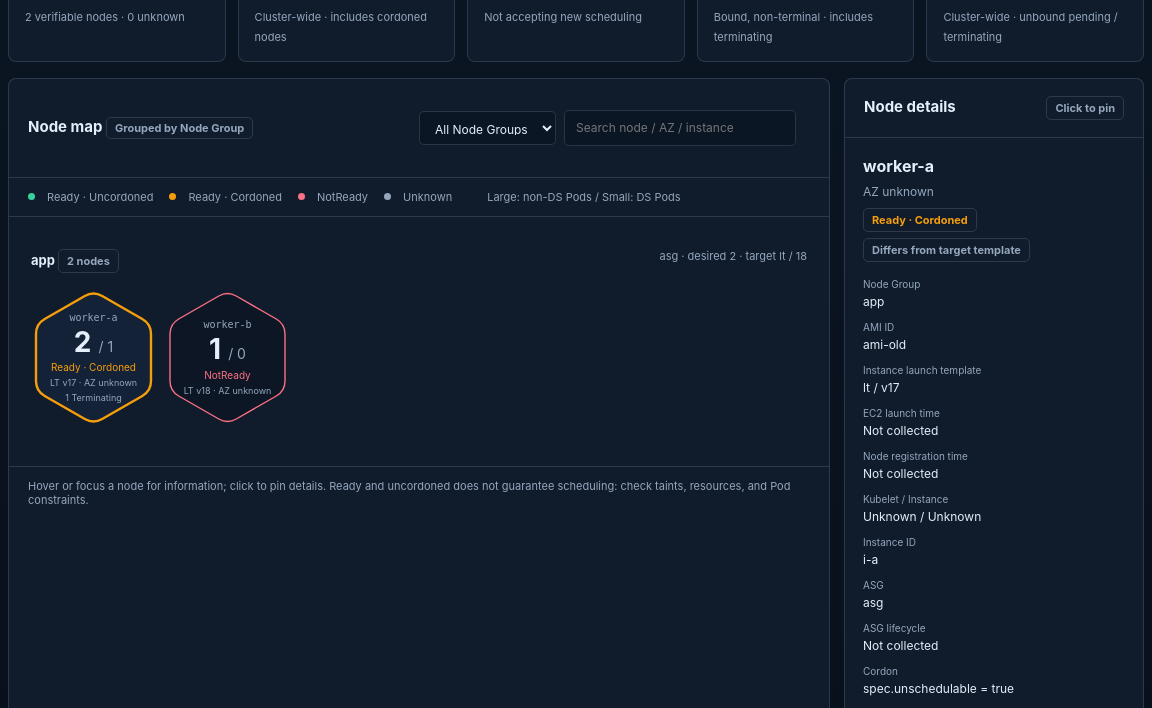
it: supports search, keyboard details, empty results and honest activity coverage
(page scrolled)
Focus the button with aria-label "worker-a, 2 non-DS Pods, 1 DS Pods, Ready · Cordoned, Cordon". click: (94, 358)
box: [31,288,156,428]
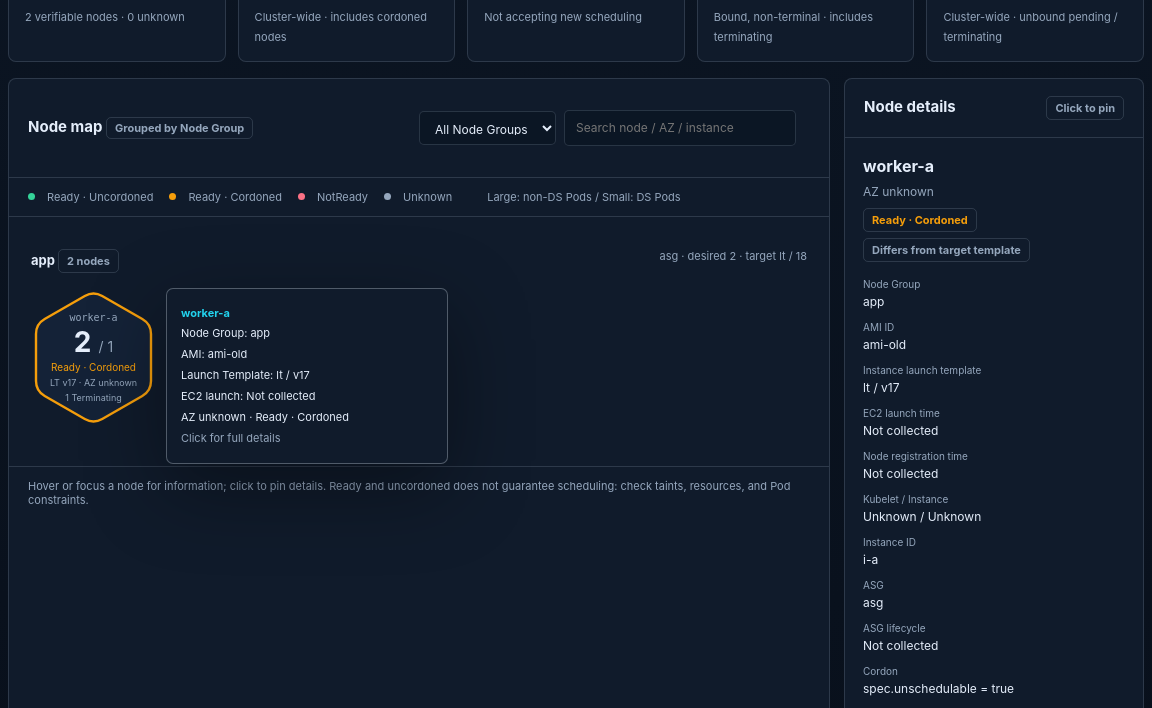
Result: the tooltip shows "ami-old" at [181,347,247,361]
Press Escape in the button with aria-label "worker-a, 2 non-DS Pods, 1 DS Pods, Ready · Cordoned, Cordon", box [31,288,156,428]
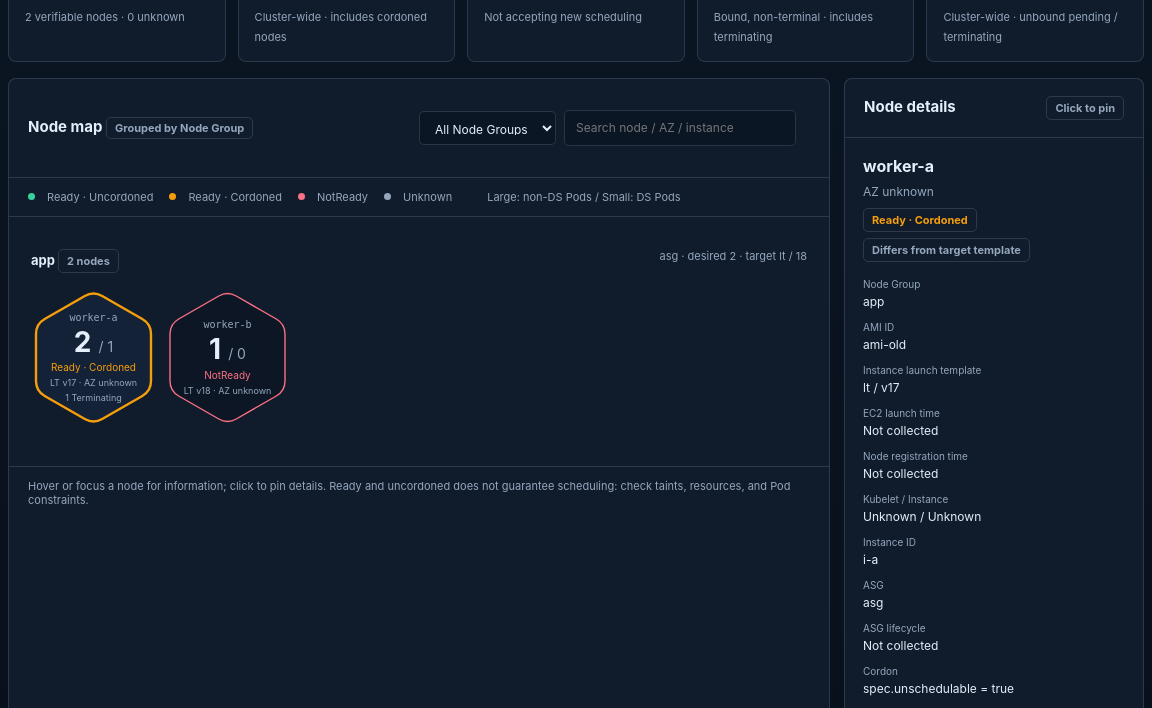
Type "not-present" into the field with placeholder "Search node / AZ / instance". click: (680, 128)
box: [564,110,796,146]
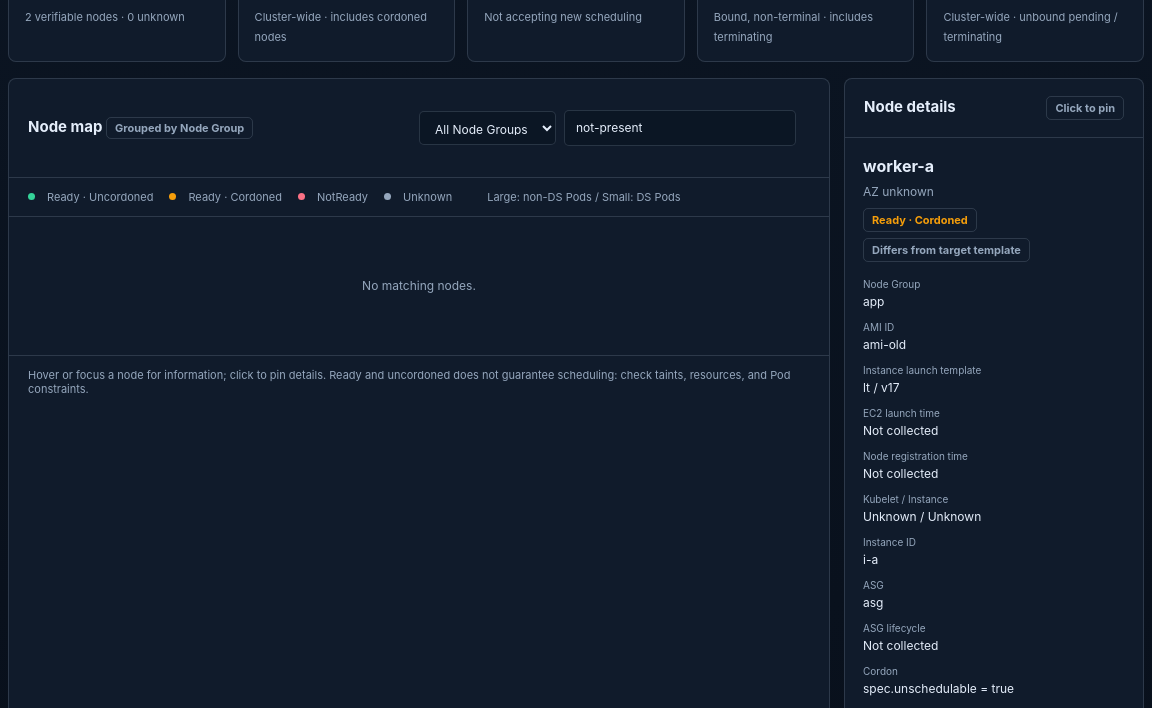
Result: no buttons with class "node" are shown
Result: the text "No matching nodes" is shown at [362,278,476,293]
